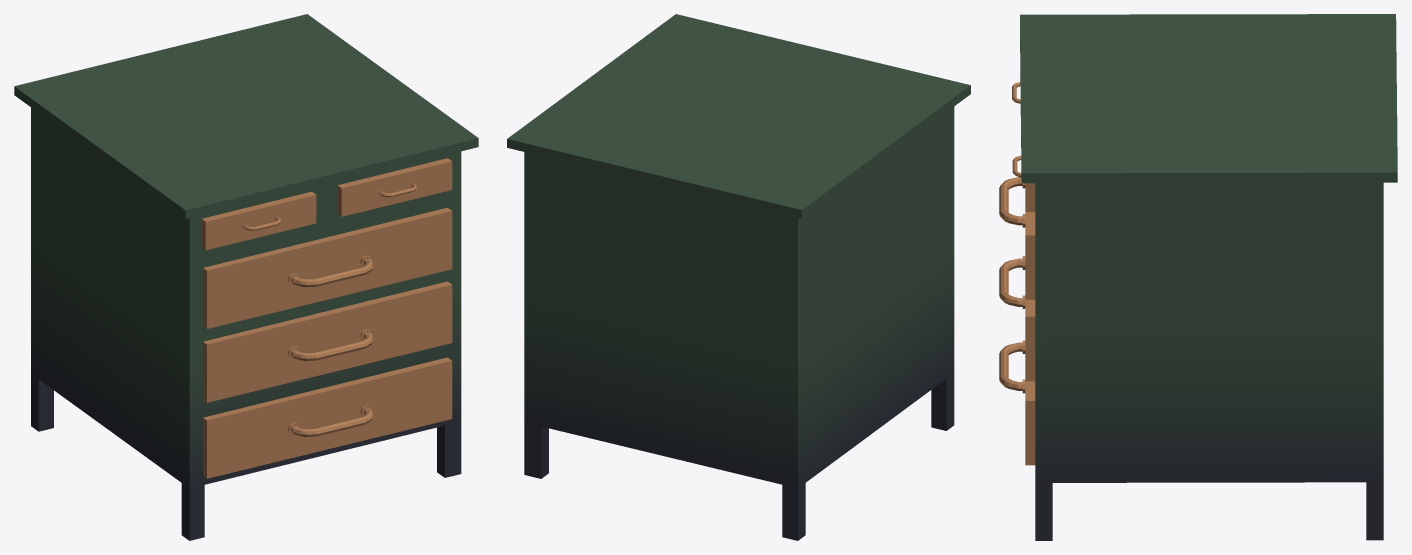
The model's file is Cassettiera.fbx.
3 views of the same model, side by side, from view 1: azimuth 30°, elevation 25°; view 2: azimuth 150°, elevation 25°; view 3: azimuth 270°, elevation 25° (orthographic). The views are drawn at different scales.
Visible parts, largest first — view 1: Cube.047, Cylinder.018, Cylinder.021, Cylinder.022, Cylinder.019, Cylinder.020; view 2: Cube.047; view 3: Cube.047, Cylinder.018, Cylinder.022, Cylinder.021.
Part boxes in pixels (x1=…): Cube.047: x1=14, y1=14, x2=478, y2=540; Cylinder.018: x1=203, y1=207, x2=452, y2=328; Cylinder.021: x1=203, y1=281, x2=452, y2=402; Cylinder.022: x1=203, y1=357, x2=452, y2=478; Cylinder.019: x1=337, y1=158, x2=452, y2=216; Cylinder.020: x1=201, y1=191, x2=316, y2=250; Cube.047: x1=507, y1=14, x2=970, y2=540; Cube.047: x1=1020, y1=14, x2=1397, y2=540; Cylinder.018: x1=999, y1=177, x2=1035, y2=299; Cylinder.022: x1=999, y1=340, x2=1035, y2=465; Cylinder.021: x1=999, y1=256, x2=1035, y2=381.
Size of the model in its own units: 129 by 141 by 137.
